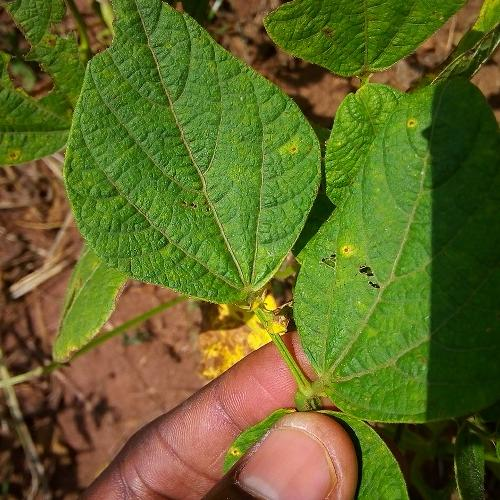hawar: (312, 228, 412, 315), (394, 109, 428, 142), (277, 138, 312, 162)
